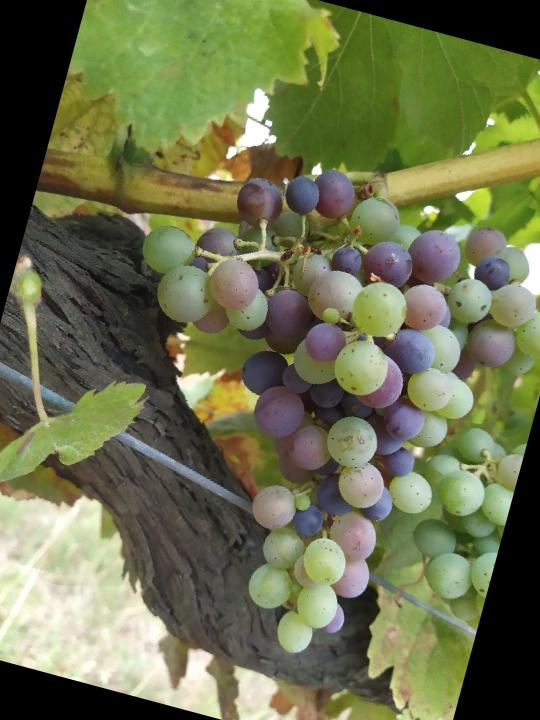grape: (48, 124, 540, 701)
